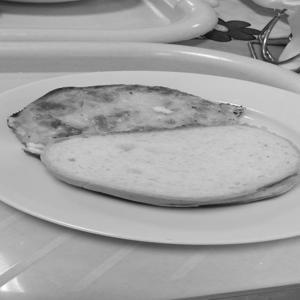bread: (40, 112, 289, 221)
cheese_sandwich: (3, 73, 248, 166)
